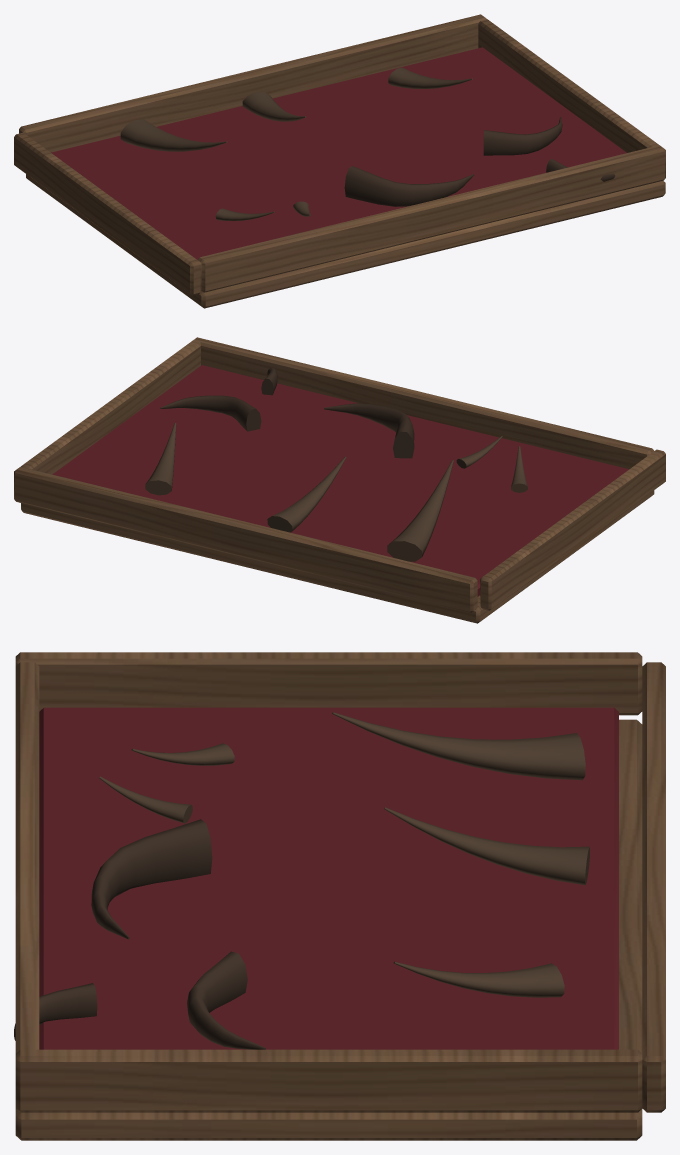
Rendered from fossil-teeth-and-claws.glb.
3 views of the same model, one above another, from view 1: azimuth 30°, elevation 25°; view 2: azimuth 150°, elevation 25°; view 3: azimuth 270°, elevation 25° (orthographic). The views are drawn at different scales.
Parts seen in each view (by area): view 1: Fossil_Teeth_And_Claws; view 2: Fossil_Teeth_And_Claws; view 3: Fossil_Teeth_And_Claws.
Boxes of the visible parts, x1=… form: Fossil_Teeth_And_Claws: x1=14, y1=14, x2=665, y2=308; Fossil_Teeth_And_Claws: x1=14, y1=337, x2=665, y2=623; Fossil_Teeth_And_Claws: x1=14, y1=652, x2=665, y2=1140.
Bounding box in the file's own units: 0.615 × 0.0923 × 0.4161.
4 materials, 1 textured.
